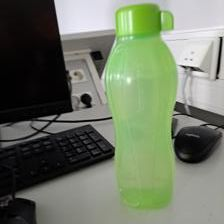bottle: (101, 3, 184, 209)
